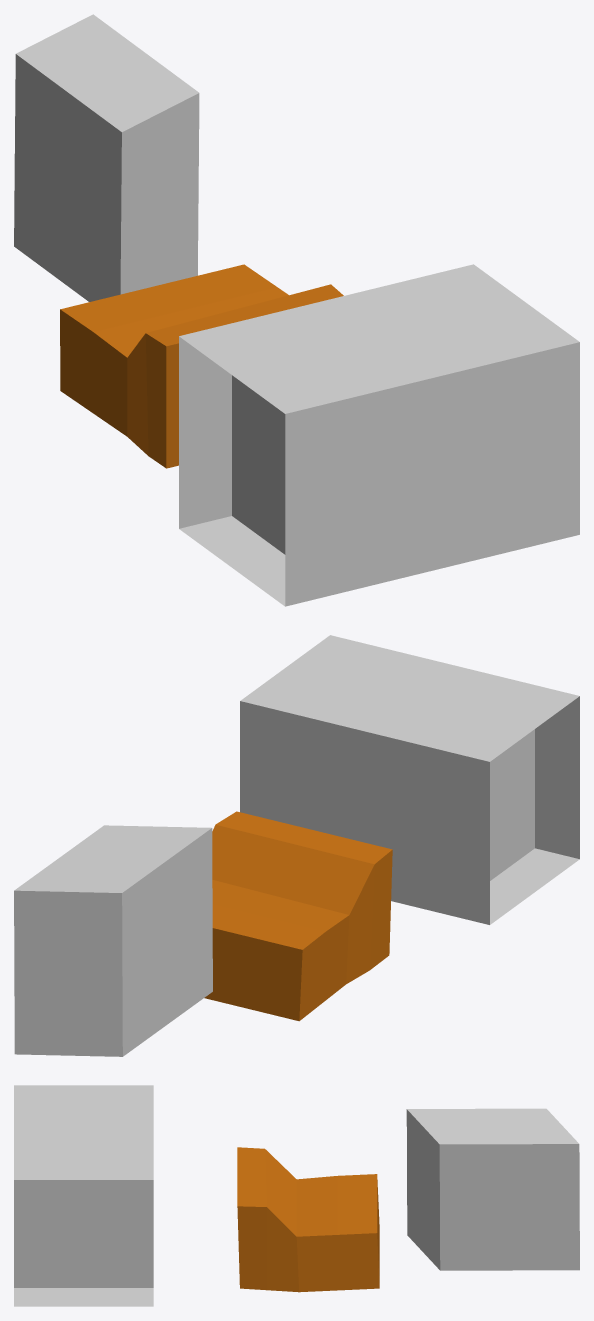
3 renders of one model, top to bottom at view 1: azimuth 30°, elevation 25°; view 2: azimuth 150°, elevation 25°; view 3: azimuth 270°, elevation 25°, orthographic. The views are drawn at different scales.
Visible parts, largest first — view 1: Cube, Cube.002, Cube.001; view 2: Cube, Cube.002, Cube.001; view 3: Cube, Cube.002, Cube.001.
Boxes of the visible parts, left/top/right/bottom form: Cube: left=179, top=264, right=579, bottom=606; Cube.002: left=14, top=14, right=199, bottom=301; Cube.001: left=60, top=264, right=343, bottom=468; Cube: left=240, top=635, right=579, bottom=924; Cube.002: left=14, top=825, right=212, bottom=1056; Cube.001: left=204, top=811, right=392, bottom=1021; Cube: left=14, top=1085, right=153, bottom=1306; Cube.002: left=406, top=1108, right=579, bottom=1270; Cube.001: left=237, top=1147, right=379, bottom=1292.
Size of what is drawn, in the model's own units: 320 by 236 by 810.
